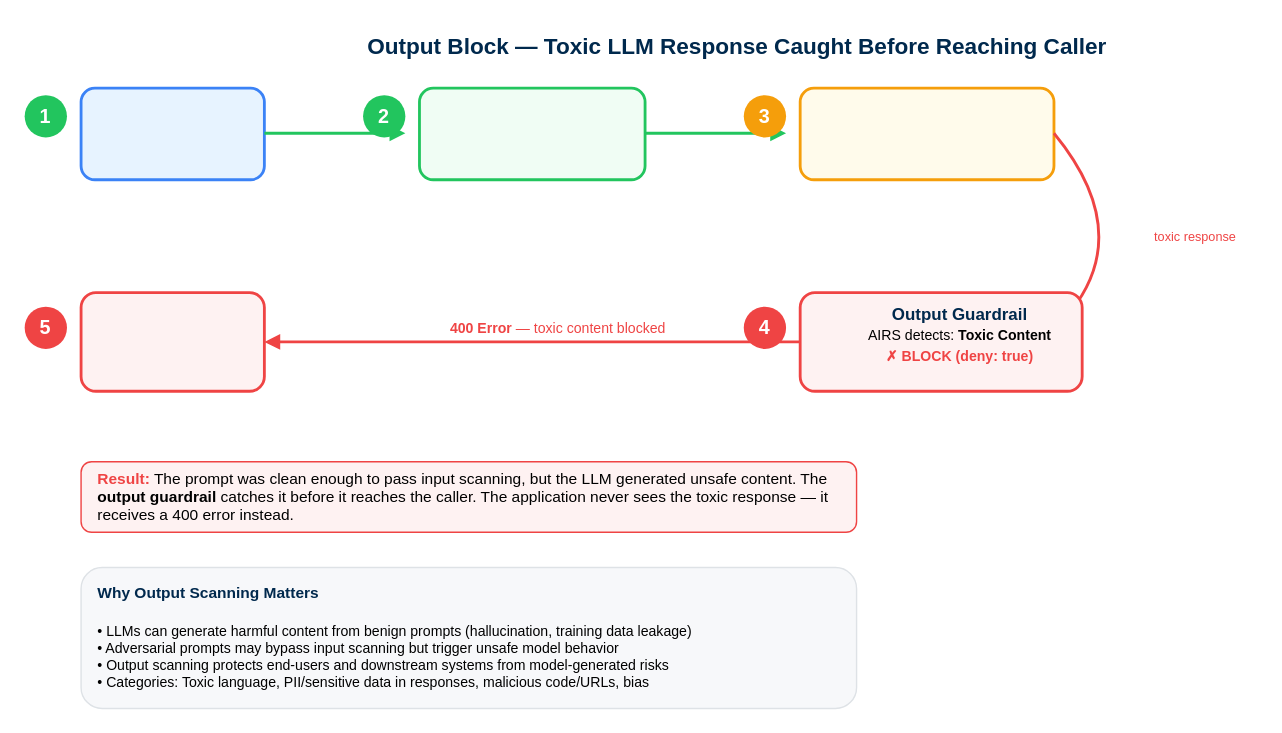
This 1282x733 diagram has some shape labels left out. The shapes that lost their labels are listed below. From the top down, each one's centre as x and y in pixels, then its label:
the point at 172,133: Application Sends clean prompt
the point at 531,133: Input Guardrail ✓ ALLOW (clean prompt)
the point at 926,133: LLM Provider Generates response containing toxic / unsafe content
the point at 172,341: Application Receives HTTP 400 instead of toxic response
